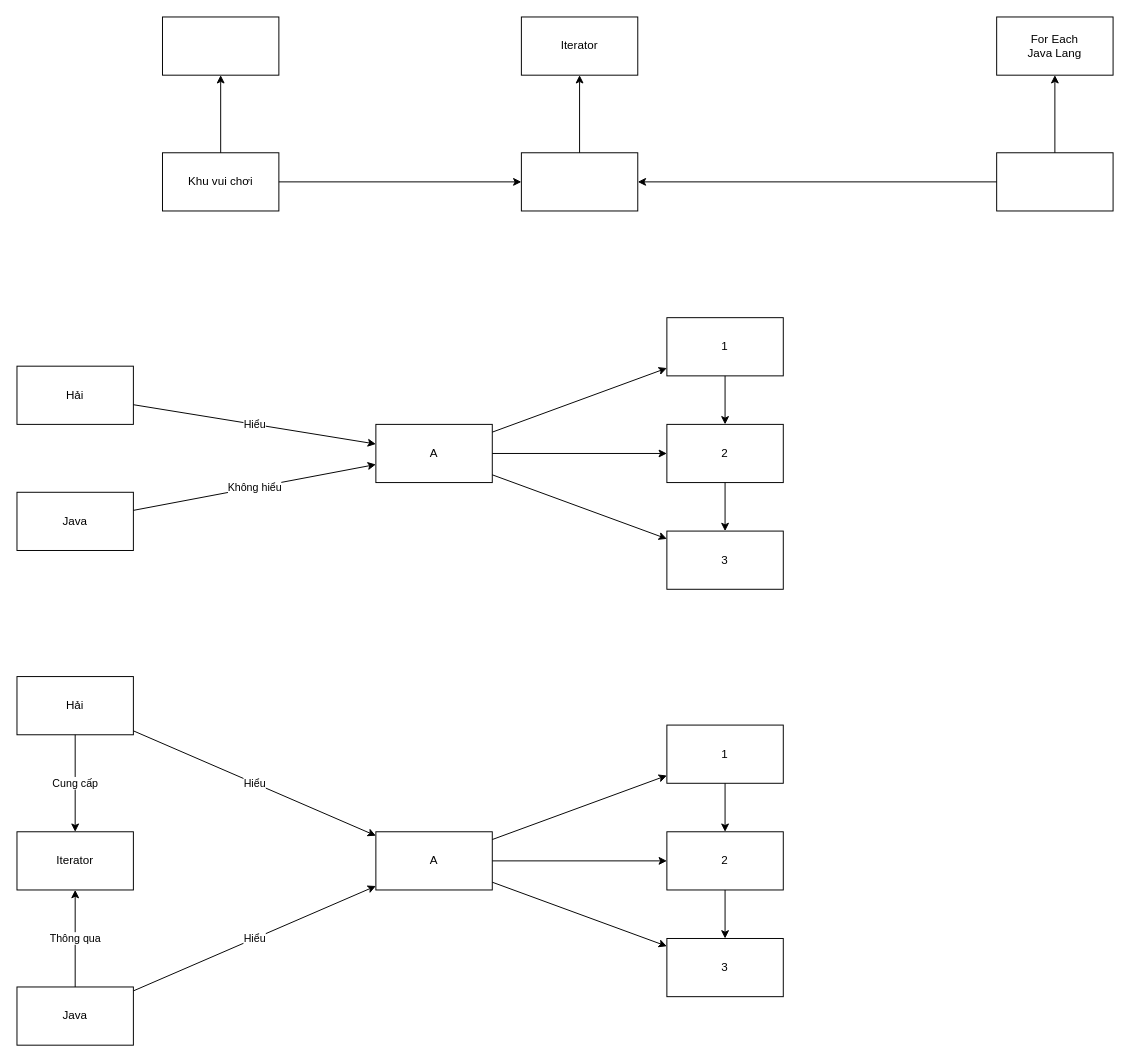
The diagram is 1130 pixels wide and 1062 high, and some of its shapes have lost their labels. The centre of each missing label's shape, as x and y in pixels:
Bản đồ lộ trình: (579,181)
Iterable: (220,45)
Khách hàng: (1054,181)
